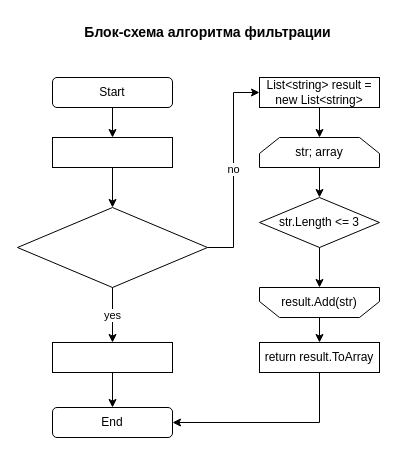
This 397x455 diagram has some shape labels left out. Each missing label, with the box of its shape:
array == 0 || array.Length == 0: (16, 206, 208, 288)
return new string[0]: (52, 342, 172, 372)
string[] array: (52, 136, 172, 168)
